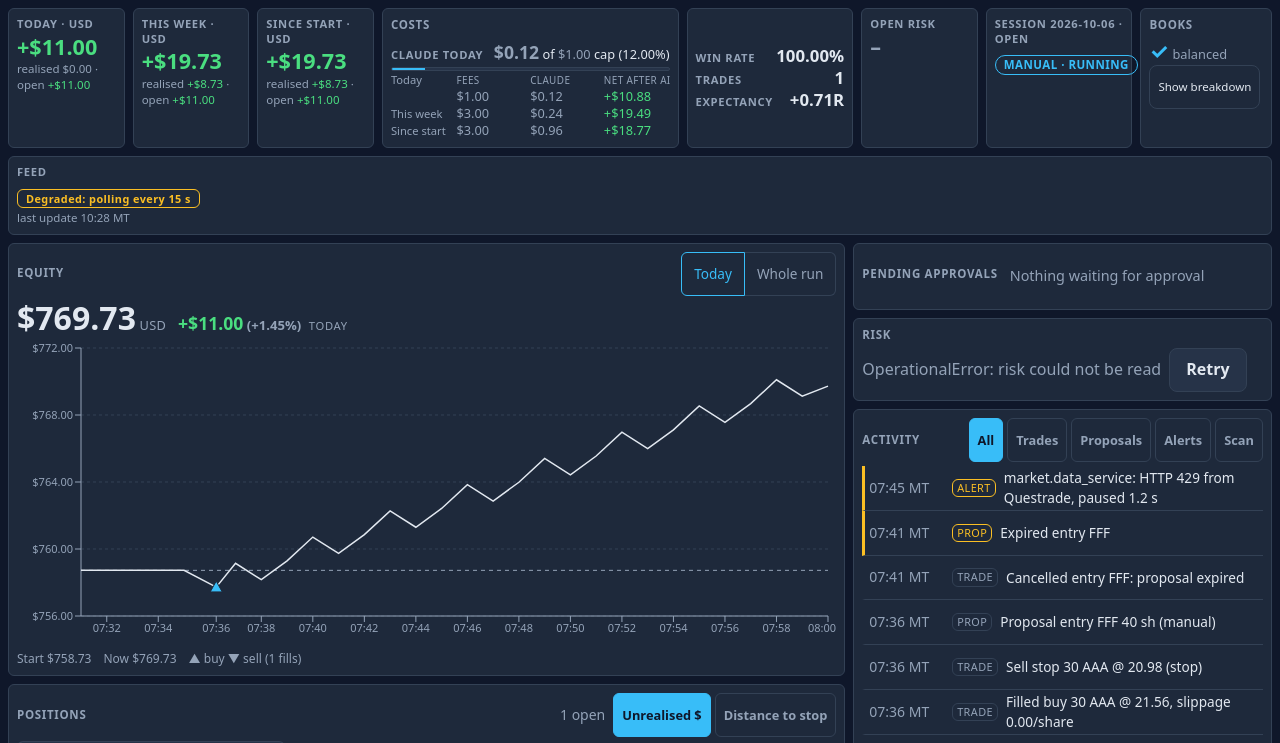
Test: part isolation and request failures (test 2) › one failing part shows that panel's error with Retry; every other panel renders
Expected: the element named "Session" is shown, [8, 8, 1272, 234]
Expected: the text "OperationalError: risk could not be read" is shown, [862, 358, 1161, 382]
Click the button "Retry" at (1208, 370), box [1169, 348, 1246, 392]
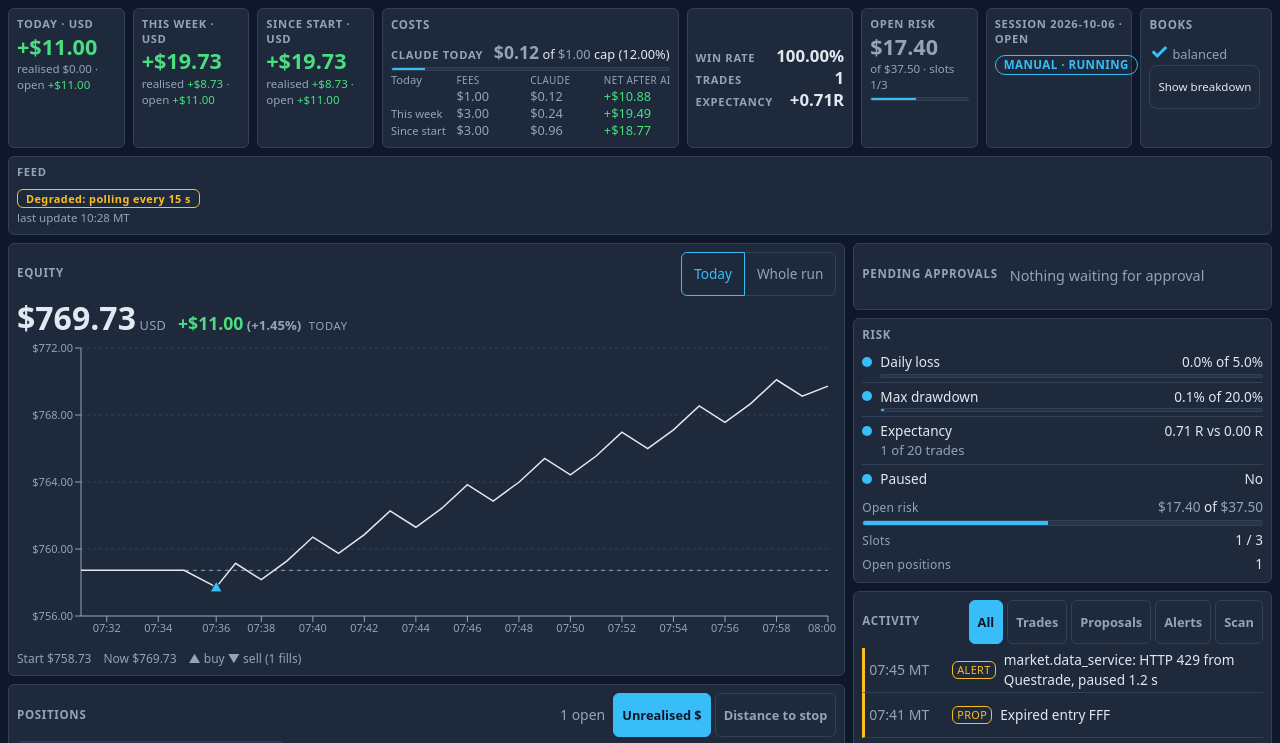
Expected: the element with test id "open-risk" is shown, [862, 497, 1263, 526]
